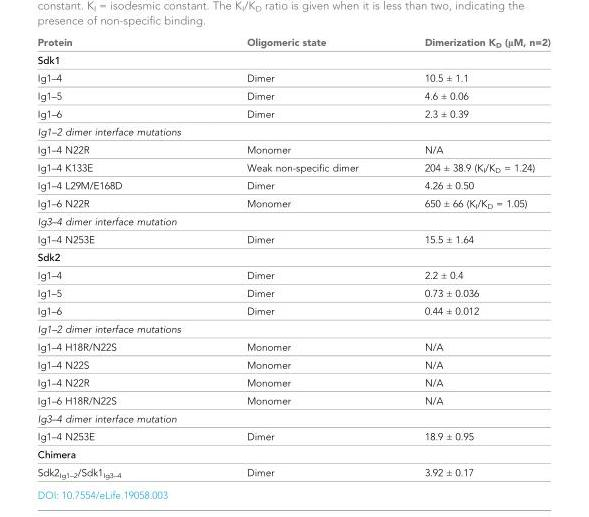table: (36, 37, 550, 478)
table column: (36, 37, 213, 478), (213, 37, 390, 478), (390, 37, 550, 478)
table column header: (36, 37, 550, 51)
table projected row header: (36, 51, 550, 69), (36, 122, 550, 140), (36, 248, 550, 266), (36, 320, 550, 338), (36, 409, 550, 427), (36, 445, 550, 463), (36, 213, 550, 230)
table row: (36, 158, 550, 177), (36, 194, 550, 213), (36, 51, 550, 69), (36, 69, 550, 87), (36, 87, 550, 105), (36, 122, 550, 140), (36, 140, 550, 158), (36, 230, 550, 248), (36, 248, 550, 266), (36, 266, 550, 284), (36, 284, 550, 302), (36, 302, 550, 320), (36, 320, 550, 338), (36, 338, 550, 356), (36, 373, 550, 391), (36, 391, 550, 409), (36, 409, 550, 427), (36, 427, 550, 445), (36, 445, 550, 463), (36, 105, 550, 122), (36, 177, 550, 194), (36, 213, 550, 230), (36, 356, 550, 373), (36, 463, 550, 478), (36, 37, 550, 51)
